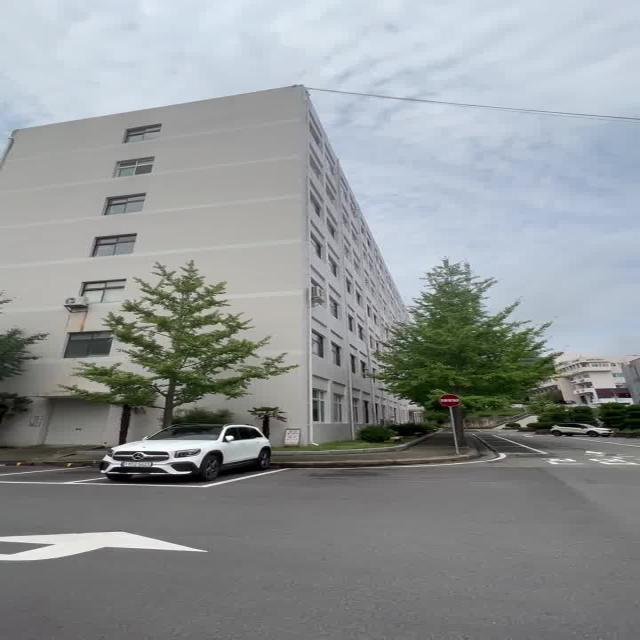building: (0, 107, 363, 293)
